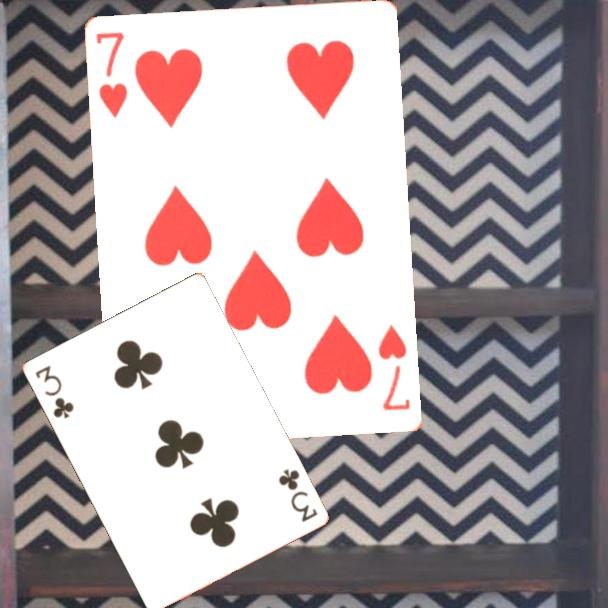c03: (31, 361, 77, 421), (274, 465, 320, 525)
h07: (375, 322, 414, 414), (93, 28, 131, 122)
